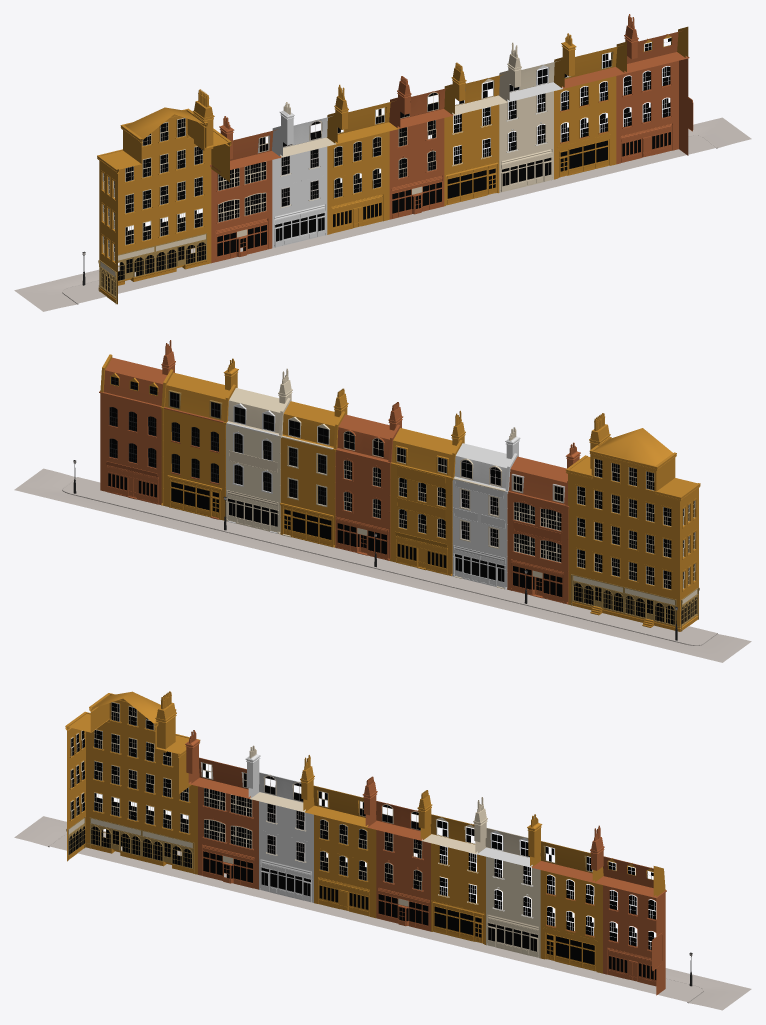
The picture shows the model from 3 angles, top to bottom: view 1: azimuth 30°, elevation 25°; view 2: azimuth 150°, elevation 25°; view 3: azimuth 330°, elevation 25°; orthographic projection.
Parts seen in each view (by area): view 1: cityBlock_04_House_I_Facade_01, cityBlock_04_Sidewalk, cityBlock_04_House_A_Facade_01, cityBlock_04_House_I_Windows_Glass, cityBlock_04_House_B_Facade_01, cityBlock_04_House_F_Facade_01, cityBlock_04_House_D_Facade_01, cityBlock_04_House_G_Facade_01, cityBlock_04_House_E_Facade_01, cityBlock_04_House_C_Facade_01, cityBlock_04_Road, cityBlock_04_House_H_Facade_01 (+42 smaller); view 2: cityBlock_04_House_I_Facade_01, cityBlock_04_Road, cityBlock_04_Sidewalk, cityBlock_04_House_I_Windows_Glass, cityBlock_04_House_I_Facade_02, cityBlock_04_House_A_Facade_01, cityBlock_04_House_B_Facade_01, cityBlock_04_House_D_Facade_01, cityBlock_04_House_E_Facade_01, cityBlock_04_House_H_Windows_Glass, cityBlock_04_House_F_Facade_01, cityBlock_04_House_I_Shop_Facade (+44 smaller); view 3: cityBlock_04_House_I_Facade_01, cityBlock_04_Sidewalk, cityBlock_04_House_I_Windows_Glass, cityBlock_04_House_B_Facade_01, cityBlock_04_House_F_Facade_01, cityBlock_04_House_A_Facade_01, cityBlock_04_House_C_Facade_01, cityBlock_04_House_G_Facade_01, cityBlock_04_House_D_Facade_01, cityBlock_04_House_E_Facade_01, cityBlock_04_Road, cityBlock_04_House_H_Windows_Glass (+38 smaller).
Boxes of the visible parts, left/top/right/bottom form: cityBlock_04_House_I_Facade_01: left=99, top=115, right=229, bottom=304; cityBlock_04_Sidewalk: left=63, top=135, right=716, bottom=303; cityBlock_04_House_A_Facade_01: left=616, top=58, right=688, bottom=164; cityBlock_04_House_I_Windows_Glass: left=101, top=118, right=205, bottom=295; cityBlock_04_House_B_Facade_01: left=554, top=76, right=616, bottom=179; cityBlock_04_House_F_Facade_01: left=327, top=131, right=389, bottom=234; cityBlock_04_House_D_Facade_01: left=444, top=104, right=499, bottom=206; cityBlock_04_House_G_Facade_01: left=272, top=146, right=327, bottom=248; cityBlock_04_House_E_Facade_01: left=389, top=118, right=444, bottom=219; cityBlock_04_House_C_Facade_01: left=499, top=91, right=553, bottom=192; cityBlock_04_Road: left=14, top=117, right=751, bottom=311; cityBlock_04_House_H_Facade_01: left=211, top=160, right=272, bottom=263; cityBlock_04_House_I_Facade_01: left=568, top=455, right=698, bottom=626; cityBlock_04_Road: left=14, top=468, right=751, bottom=662; cityBlock_04_Sidewalk: left=63, top=477, right=715, bottom=644; cityBlock_04_House_I_Windows_Glass: left=574, top=459, right=696, bottom=624; cityBlock_04_House_I_Facade_02: left=565, top=437, right=700, bottom=631; cityBlock_04_House_A_Facade_01: left=100, top=393, right=161, bottom=504; cityBlock_04_House_B_Facade_01: left=163, top=409, right=224, bottom=520; cityBlock_04_House_D_Facade_01: left=280, top=437, right=333, bottom=545; cityBlock_04_House_E_Facade_01: left=335, top=451, right=388, bottom=547; cityBlock_04_House_H_Windows_Glass: left=513, top=476, right=562, bottom=596; cityBlock_04_House_F_Facade_01: left=389, top=464, right=450, bottom=575; cityBlock_04_House_I_Shop_Facade: left=571, top=574, right=699, bottom=631; cityBlock_04_House_I_Facade_01: left=67, top=699, right=197, bottom=874; cityBlock_04_Sidewalk: left=49, top=834, right=702, bottom=1001; cityBlock_04_House_I_Windows_Glass: left=69, top=702, right=191, bottom=867; cityBlock_04_House_B_Facade_01: left=540, top=870, right=602, bottom=973; cityBlock_04_House_F_Facade_01: left=314, top=814, right=376, bottom=918; cityBlock_04_House_A_Facade_01: left=603, top=885, right=665, bottom=995; cityBlock_04_House_C_Facade_01: left=486, top=856, right=540, bottom=958; cityBlock_04_House_G_Facade_01: left=259, top=801, right=313, bottom=902; cityBlock_04_House_D_Facade_01: left=431, top=843, right=485, bottom=944; cityBlock_04_House_E_Facade_01: left=376, top=830, right=430, bottom=931; cityBlock_04_Road: left=14, top=816, right=751, bottom=1010; cityBlock_04_House_H_Windows_Glass: left=203, top=763, right=252, bottom=882.
Bounding box in the file's own units: 536 × 134 × 52.69.
